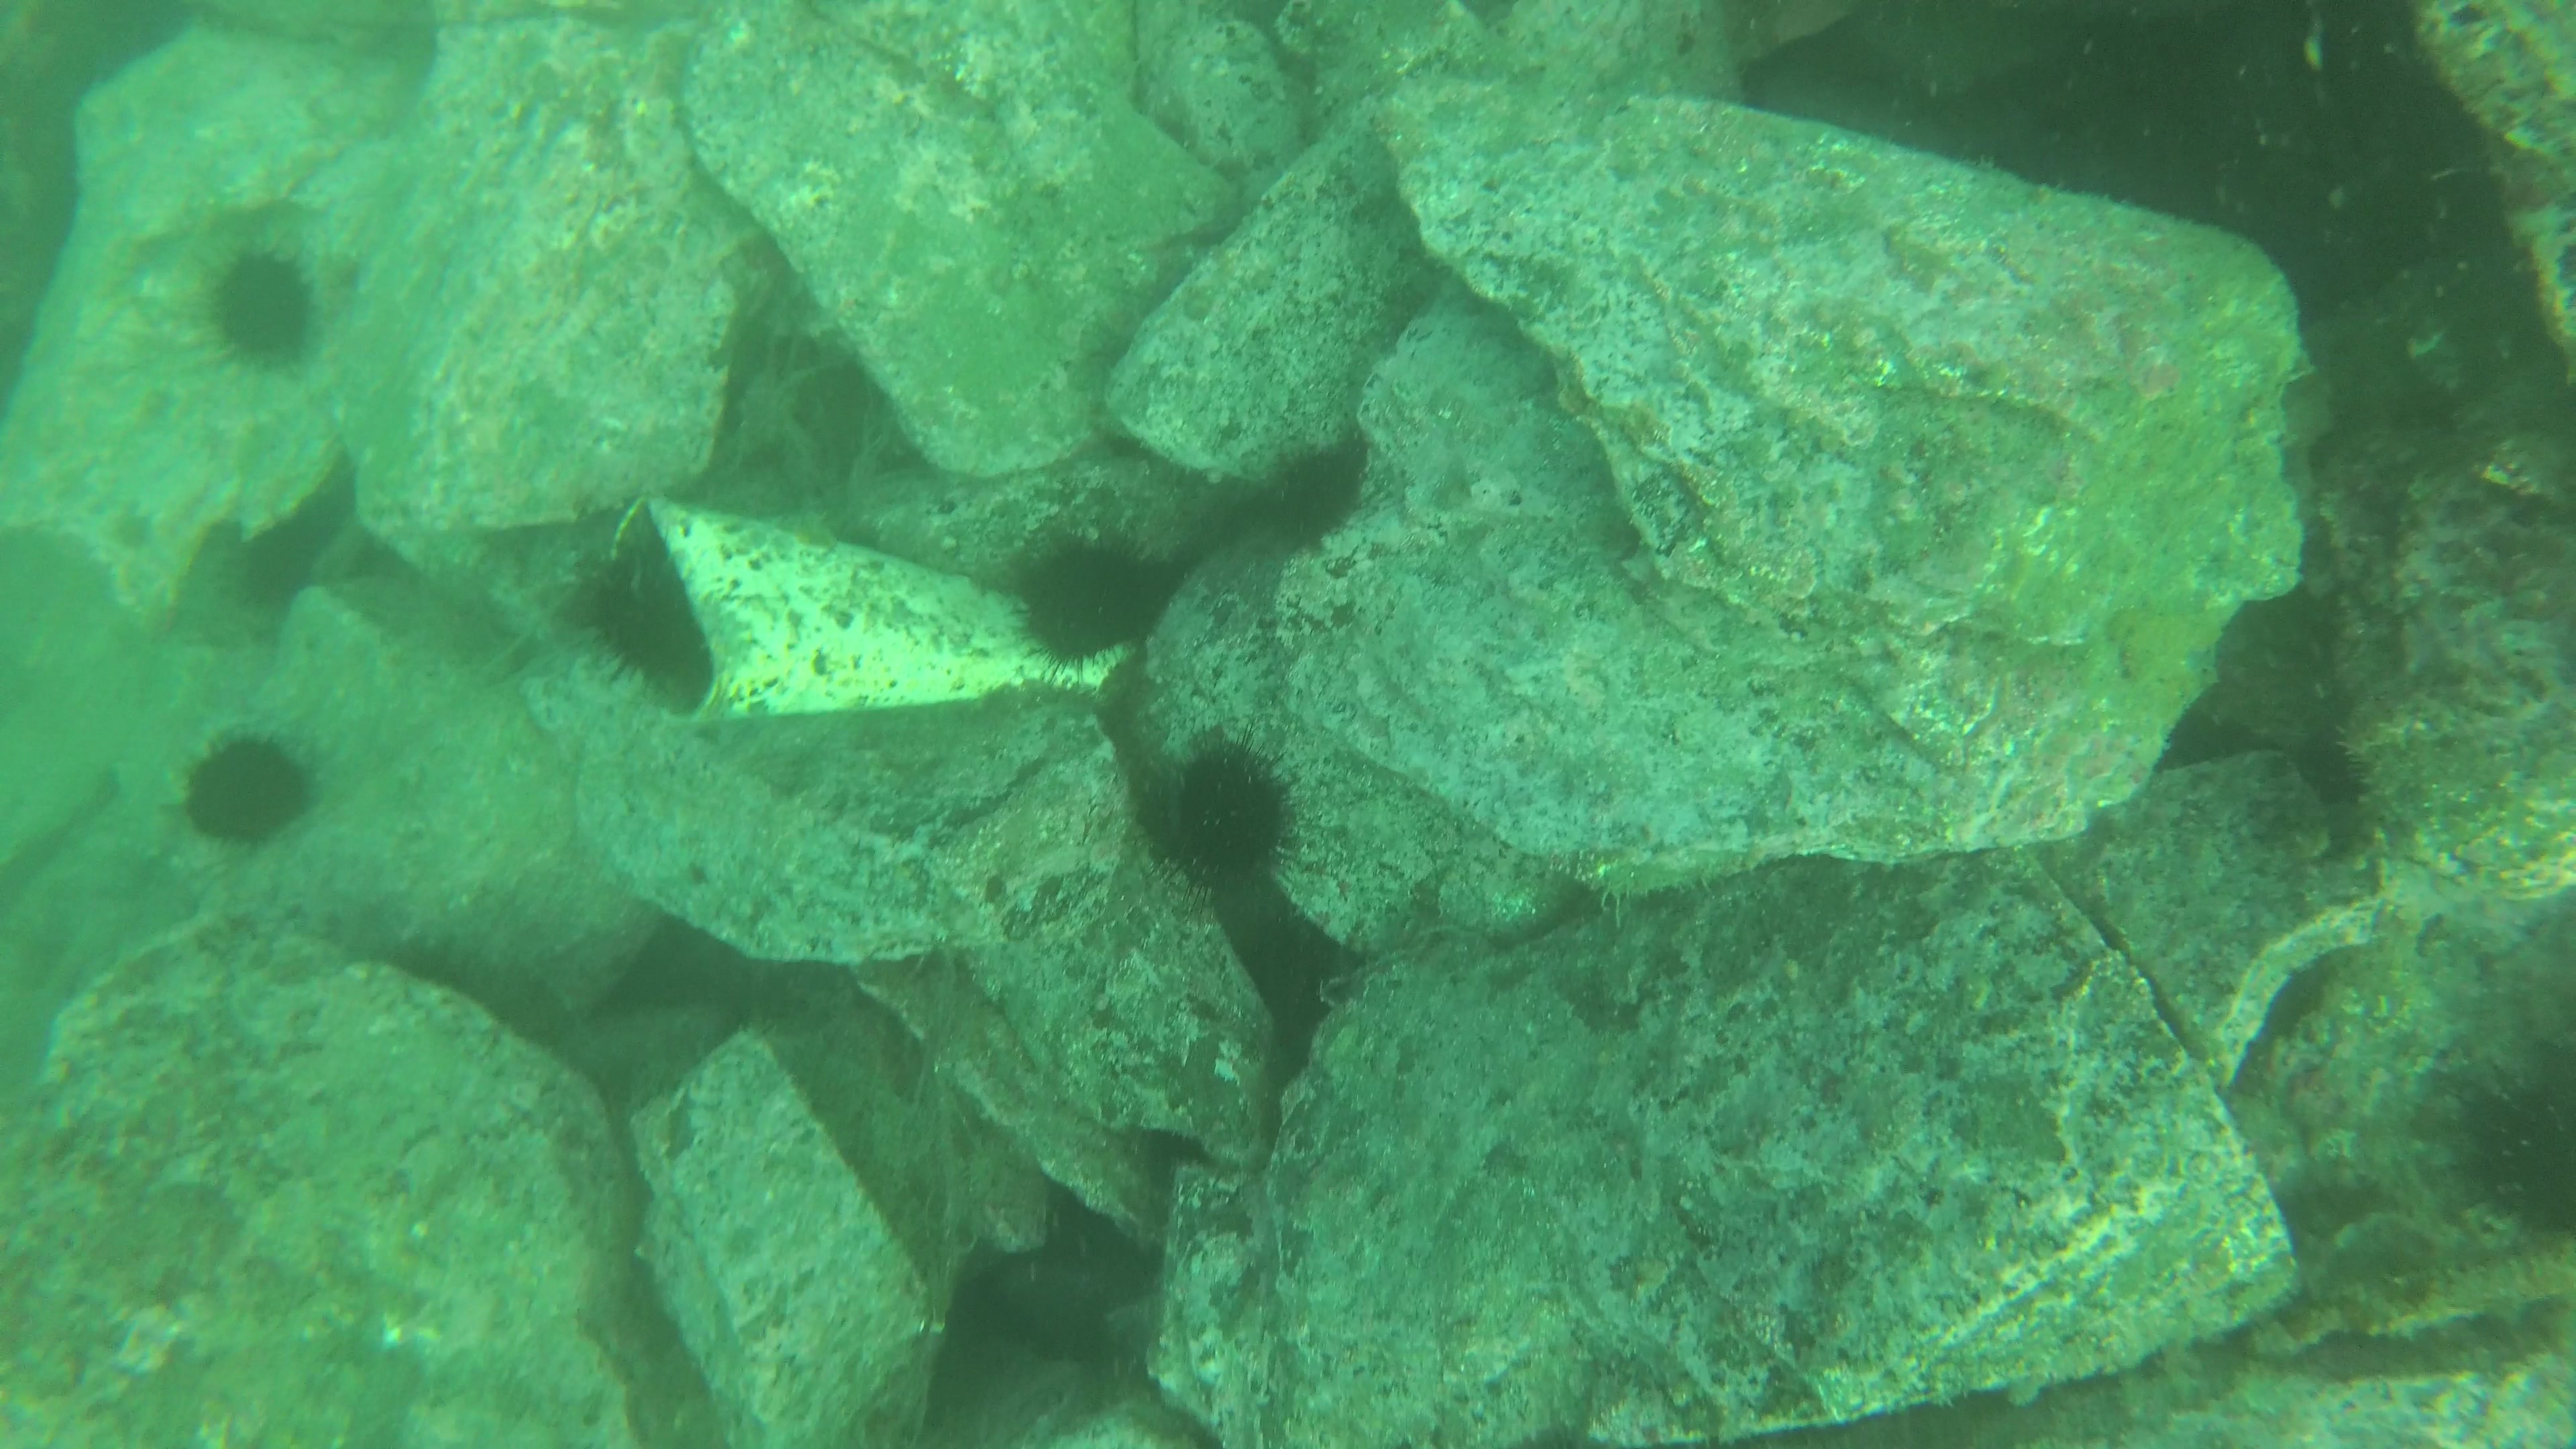echinus: (1152, 717, 1302, 899), (1005, 525, 1194, 669), (582, 541, 745, 699), (2461, 1039, 2576, 1247), (161, 725, 324, 860), (196, 246, 338, 387)
